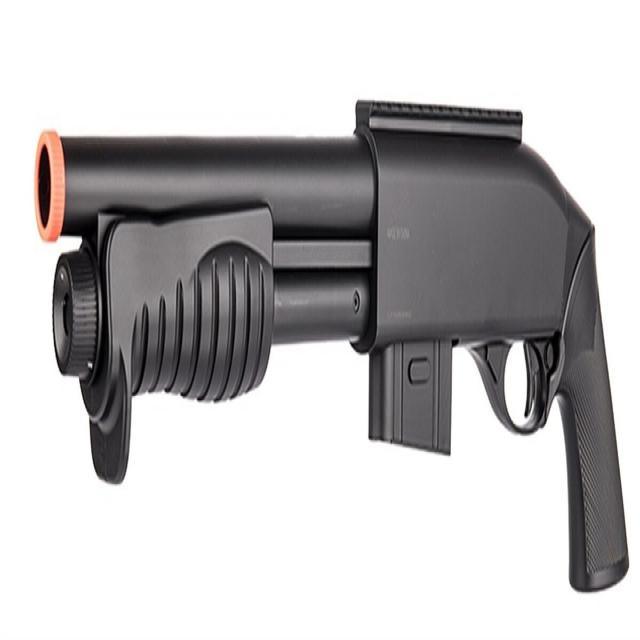ShotGun: (31, 101, 632, 596)
